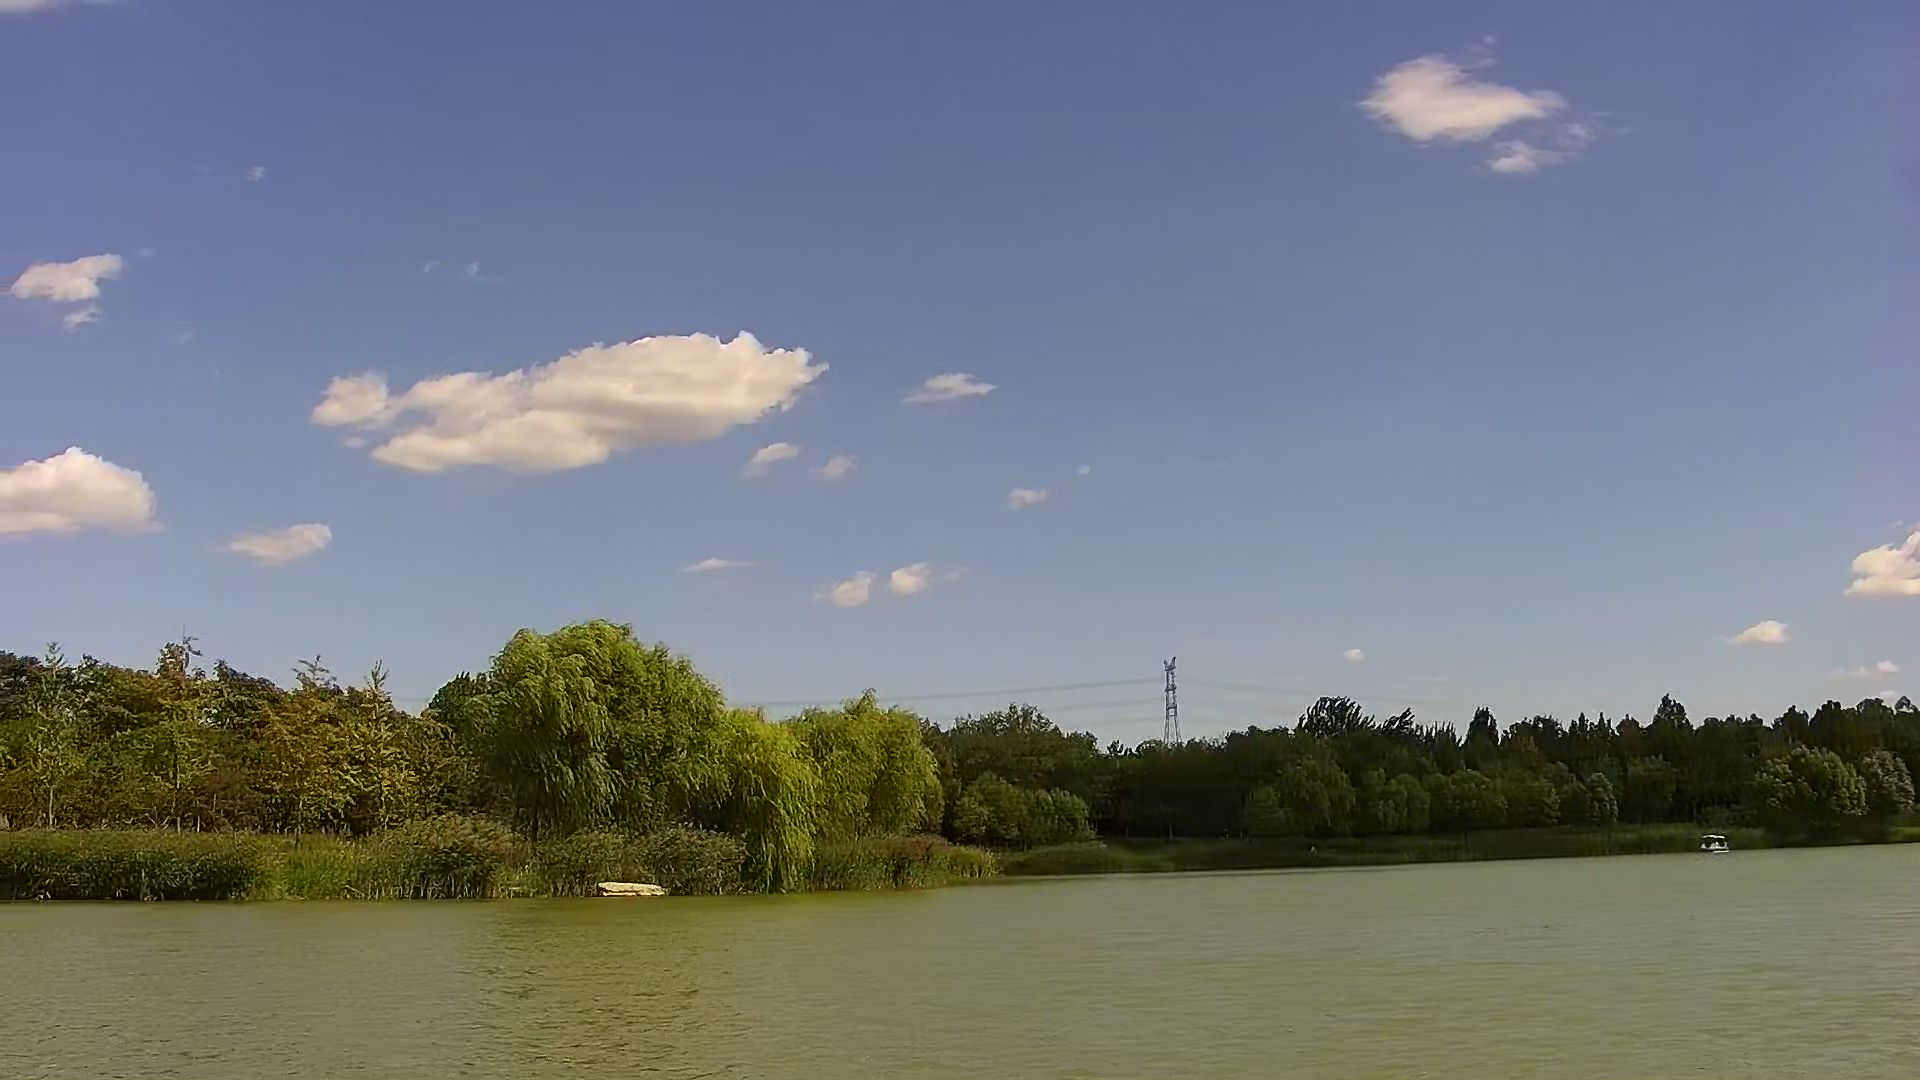boat: (1696, 831, 1737, 851)
